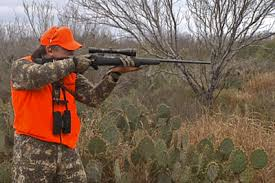Gun: (86, 45, 209, 73)
